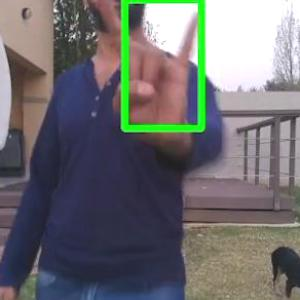takeoff-hand: (104, 0, 205, 141)
